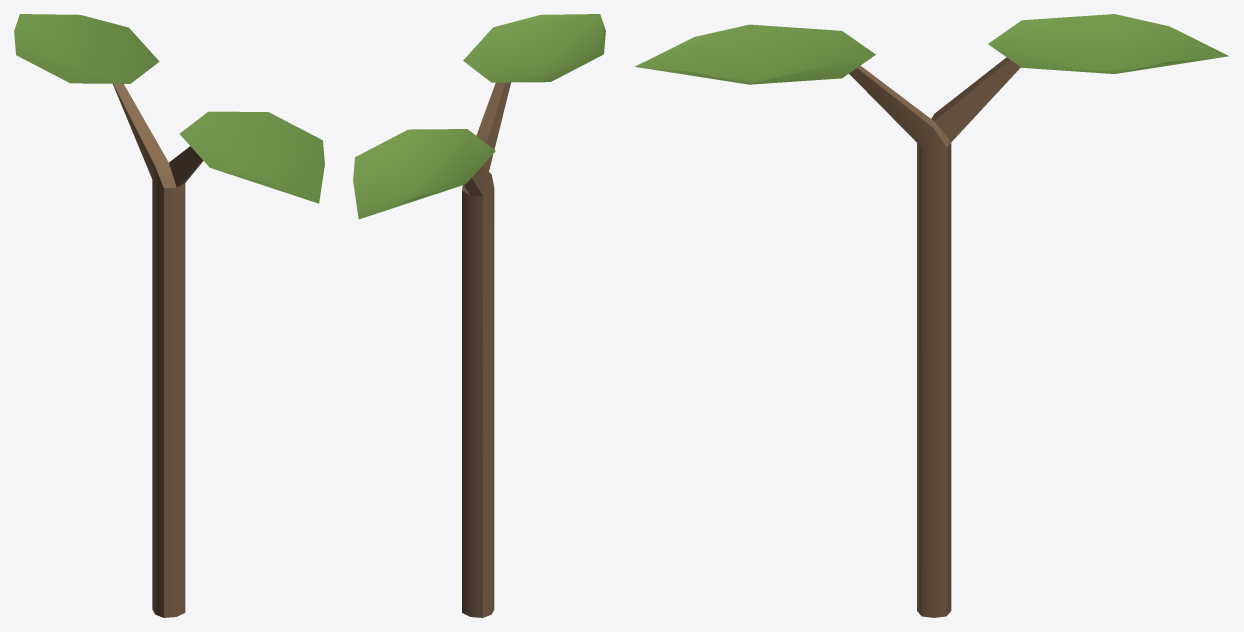
Rendered from Seeding_Lettuces.fbx.
The picture shows the model from 3 angles, left to right: view 1: azimuth 30°, elevation 25°; view 2: azimuth 150°, elevation 25°; view 3: azimuth 270°, elevation 25°; orthographic projection. The views are drawn at different scales.
Visible parts, largest first — view 1: pCube1, pPlane2, pPlane1; view 2: pCube1, pPlane1, pPlane2; view 3: pCube1, pPlane1, pPlane2.
Boxes of the visible parts, box(x1,y1,x2,y2) form: pCube1: box(113, 83, 203, 617); pPlane2: box(179, 111, 324, 203); pPlane1: box(14, 14, 159, 83); pCube1: box(462, 82, 510, 617); pPlane1: box(353, 129, 495, 219); pPlane2: box(463, 14, 605, 82); pCube1: box(849, 57, 1020, 617); pPlane1: box(988, 14, 1228, 73); pPlane2: box(635, 24, 875, 84).
Size of the model in its own units: 1.6 by 5.66 by 5.42.
